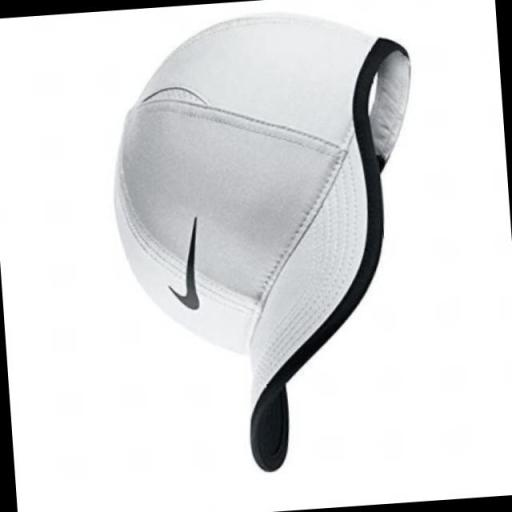Nike: (162, 212, 216, 314)
